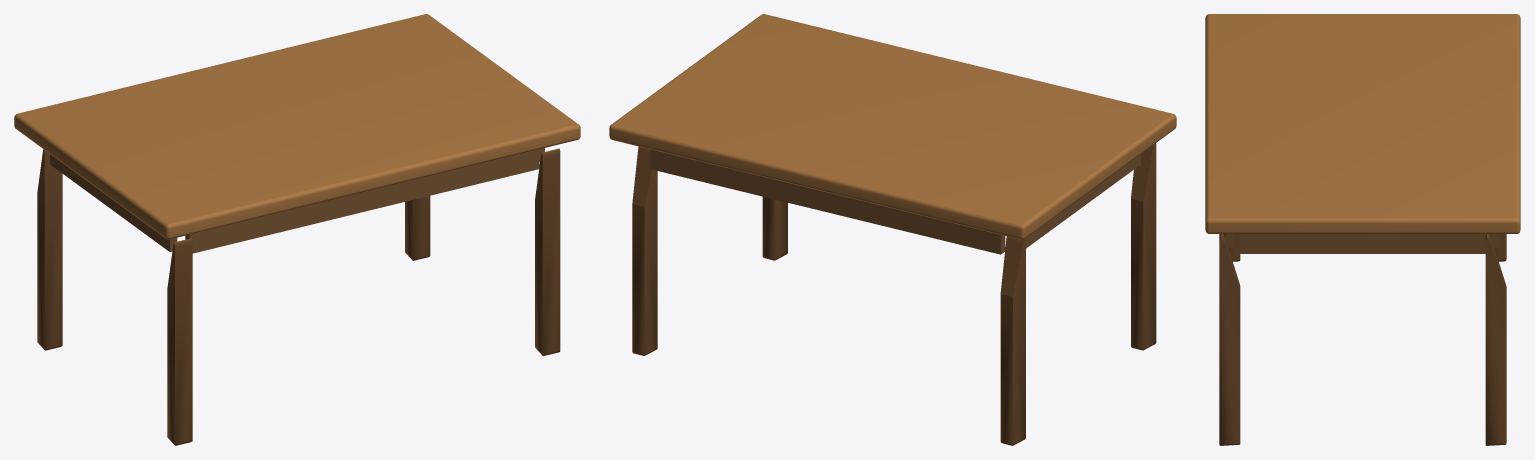
File: table.glb
3 views of the same model, side by side, from view 1: azimuth 30°, elevation 25°; view 2: azimuth 150°, elevation 25°; view 3: azimuth 270°, elevation 25° (orthographic). The views are drawn at different scales.
Visible parts, largest first — view 1: top, apx0, leg1, leg0, leg2, leg3, apy0; view 2: top, apx1, leg2, leg3, leg0, leg1, apy0; view 3: top, apy1, leg3, leg1.
Boxes of the visible parts, bbox=[...] form: top: bbox=[14, 14, 580, 239]; apx0: bbox=[185, 149, 539, 253]; leg1: bbox=[535, 148, 560, 356]; leg0: bbox=[167, 238, 192, 445]; leg2: bbox=[37, 149, 62, 350]; leg3: bbox=[405, 196, 430, 260]; apy0: bbox=[50, 154, 177, 251]; top: bbox=[609, 14, 1176, 239]; apx1: bbox=[650, 149, 1005, 254]; leg2: bbox=[1000, 236, 1025, 445]; leg3: bbox=[632, 146, 657, 355]; leg0: bbox=[1131, 143, 1156, 350]; leg1: bbox=[762, 196, 787, 260]; apy0: bbox=[1026, 154, 1140, 248]; top: bbox=[1205, 14, 1520, 233]; apy1: bbox=[1240, 234, 1485, 253]; leg3: bbox=[1485, 234, 1506, 445]; leg1: bbox=[1219, 234, 1240, 445].
Size of the model in its own units: 1.4 by 0.74 by 0.9.
